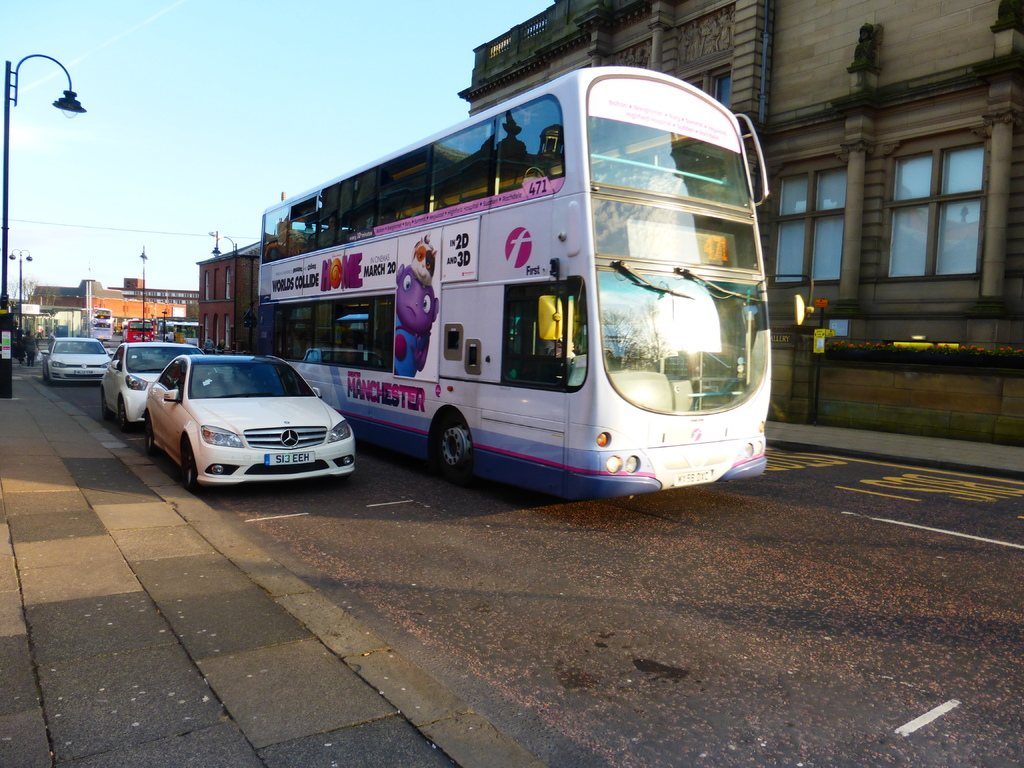Bus: (247, 66, 766, 501), (120, 318, 154, 344)
